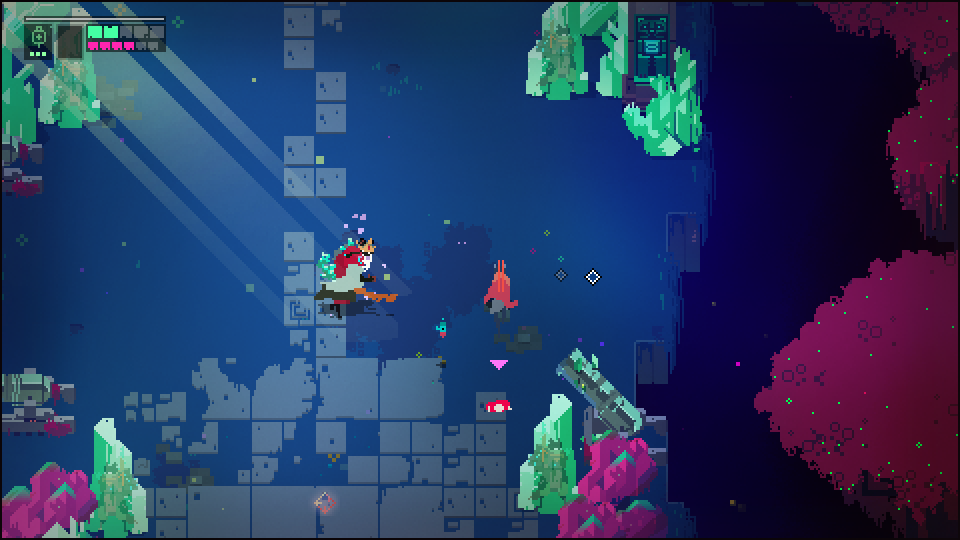hanged_man: (311, 232, 397, 309)
player: (479, 260, 519, 323)
